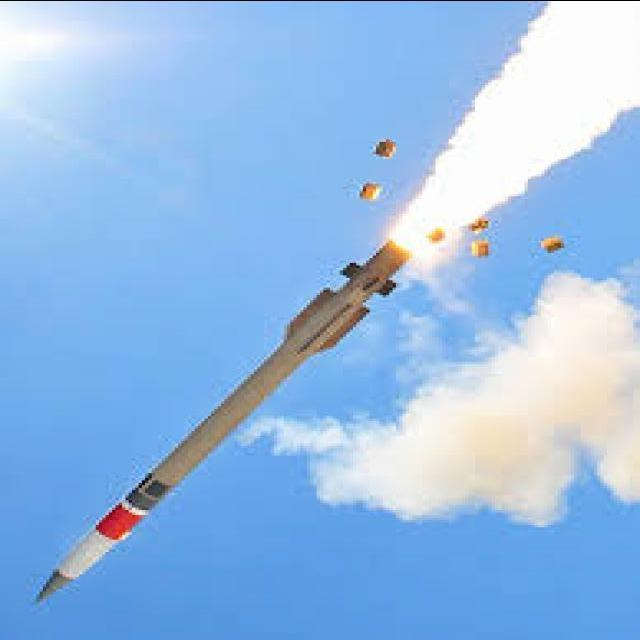Missile: (30, 236, 415, 610)
